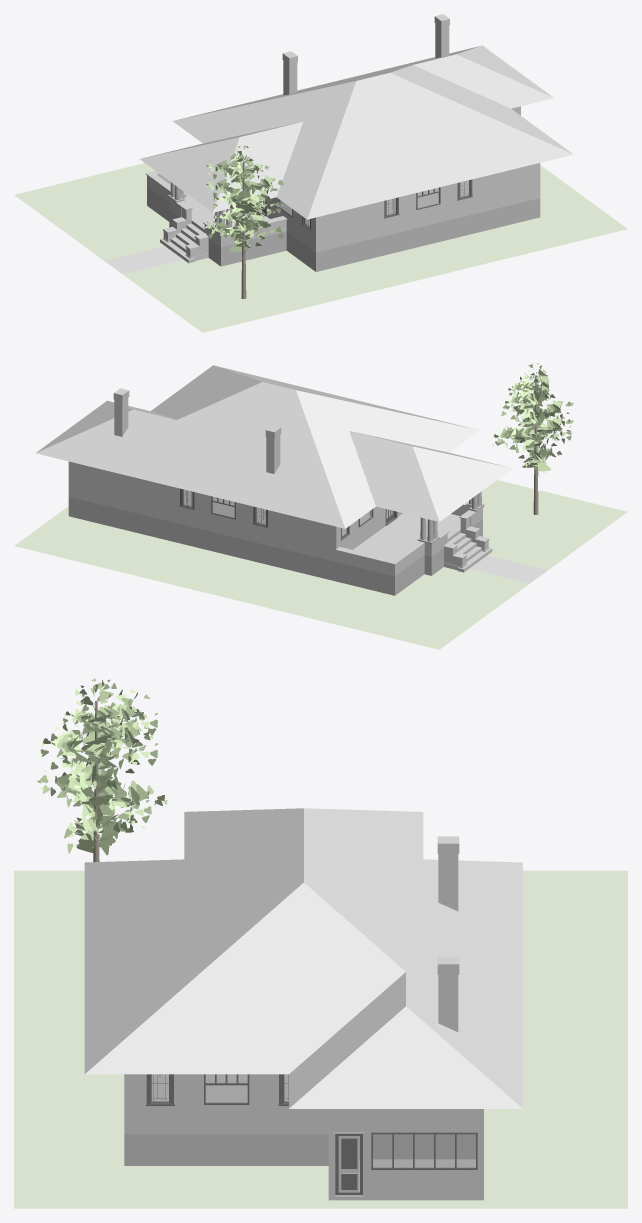
Rendered from sp-prop-sf-1L-62ft.glb.
3 views of the same model, one above another, from view 1: azimuth 30°, elevation 25°; view 2: azimuth 150°, elevation 25°; view 3: azimuth 270°, elevation 25° (orthographic). The views are drawn at different scales.
Parts seen in each view (by area): view 1: 3DGeom-55, 3DGeom-15, 3DGeom-16, 3DGeom-3, 3DGeom-8, 3DGeom-618, 3DGeom-1, 3DGeom-2; view 2: 3DGeom-55, 3DGeom-15, 3DGeom-3, 3DGeom-16, 3DGeom-8, 3DGeom-618, 3DGeom-1, 3DGeom-2; view 3: 3DGeom-55, 3DGeom-15, 3DGeom-16, 3DGeom-3, 3DGeom-618, 3DGeom-8, 3DGeom-2, 3DGeom-1.
Part boxes in pixels (x1,y1,x2,y2): 3DGeom-55: (14,163,627,332); 3DGeom-15: (144,46,573,219); 3DGeom-16: (104,45,572,274); 3DGeom-3: (145,14,540,263); 3DGeom-8: (147,182,540,271); 3DGeom-618: (204,145,285,260); 3DGeom-1: (254,179,472,230); 3DGeom-2: (262,180,468,226); 3DGeom-55: (14,480,627,649); 3DGeom-15: (36,365,506,528); 3DGeom-3: (68,388,492,576); 3DGeom-16: (36,365,547,583); 3DGeom-8: (68,491,484,595); 3DGeom-618: (491,363,573,476); 3DGeom-1: (179,488,397,540); 3DGeom-2: (183,489,392,535); 3DGeom-55: (14,870,627,1208); 3DGeom-15: (84,808,522,1108); 3DGeom-16: (85,855,522,1108); 3DGeom-3: (124,836,483,1200); 3DGeom-618: (37,678,167,855); 3DGeom-8: (124,1134,328,1165); 3DGeom-2: (151,1074,475,1167); 3DGeom-1: (146,1074,477,1195).
Size of the model in its own units: 25.09 by 8.34 by 18.78.
